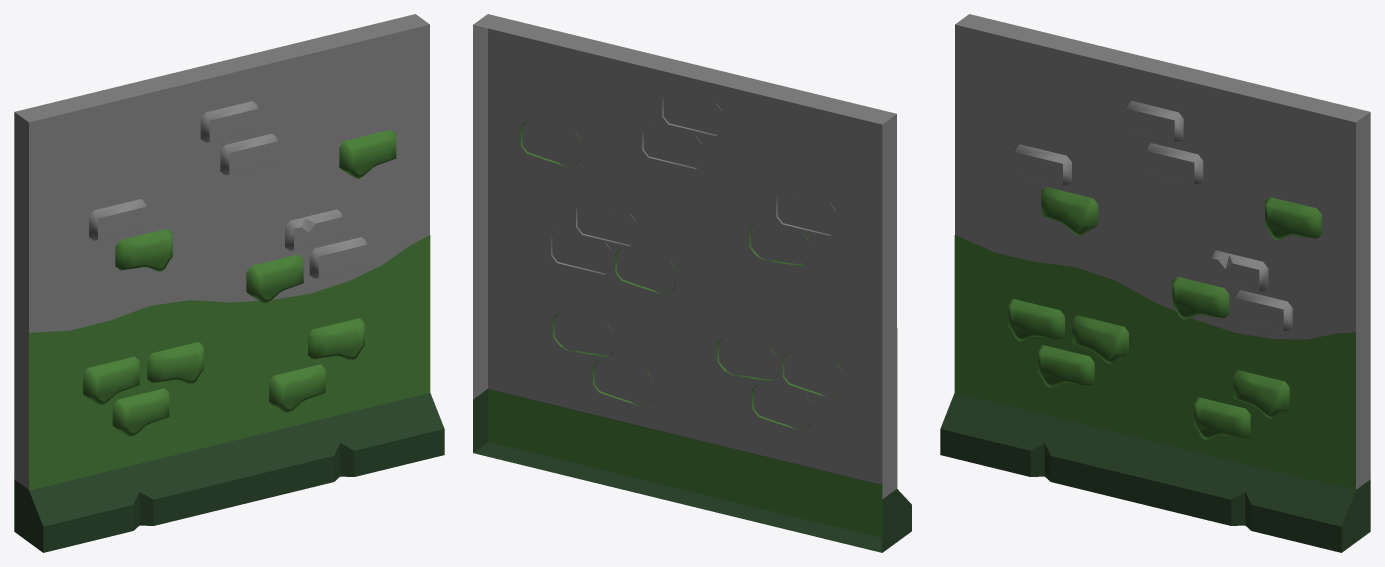
Rendered from wall_mossy_bottom.fbx.
3 views of the same model, side by side, from view 1: azimuth 30°, elevation 25°; view 2: azimuth 150°, elevation 25°; view 3: azimuth 330°, elevation 25° (orthographic). The views are drawn at different scales.
Parts seen in each view (by area): view 1: wall_mossy.bottom; view 2: wall_mossy.bottom; view 3: wall_mossy.bottom.
Part boxes in pixels (<box>): wall_mossy.bottom: <box>14,14,444,552</box>; wall_mossy.bottom: <box>473,14,911,552</box>; wall_mossy.bottom: <box>940,14,1370,552</box>.
Size of the model in its own units: 400 by 400 by 50.
